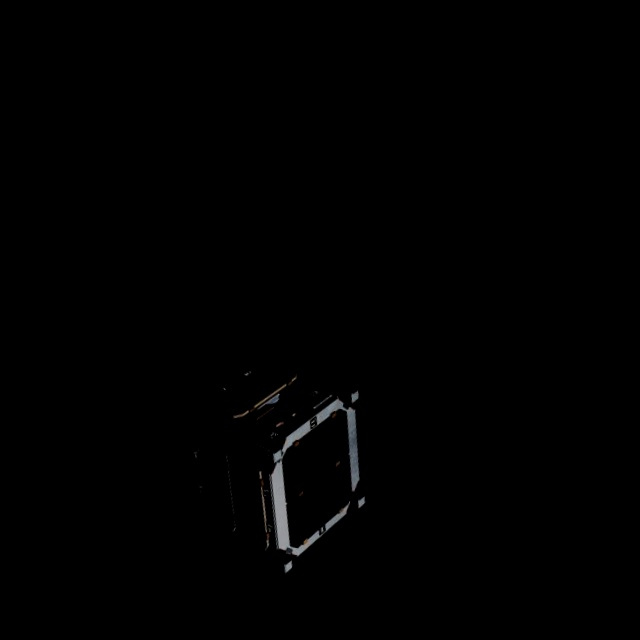medium_debris: (154, 334, 391, 588)
